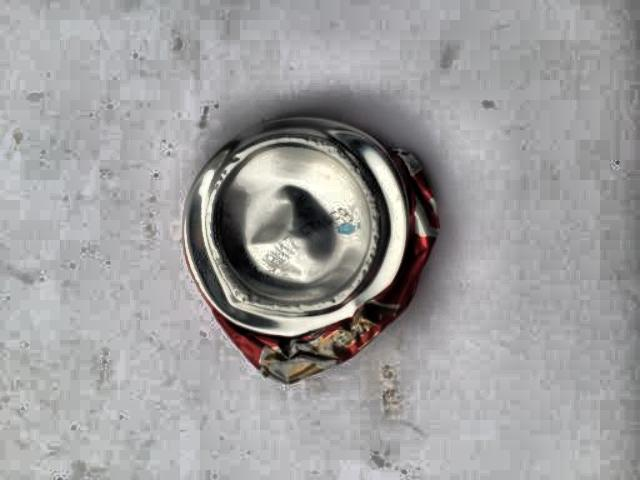Bottles: (182, 108, 443, 384)
